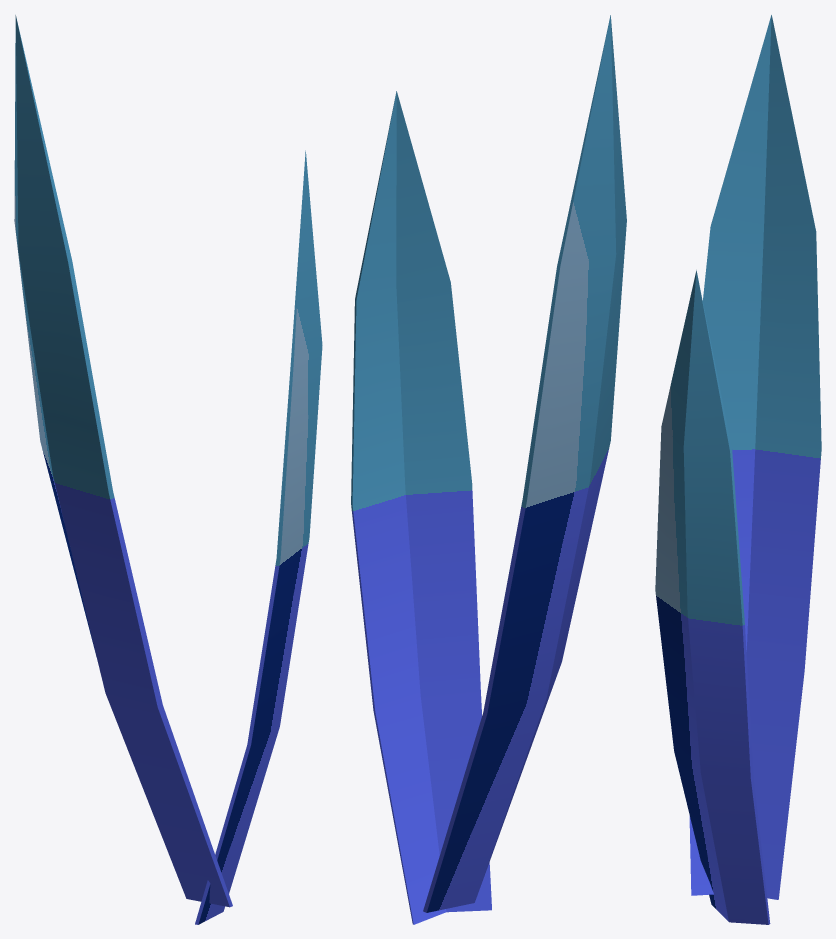
The model's file is mesh_forest_grass_01.fbx.
The picture shows the model from 3 angles, left to right: view 1: azimuth 30°, elevation 25°; view 2: azimuth 150°, elevation 25°; view 3: azimuth 270°, elevation 25°; orthographic projection. The views are drawn at different scales.
Parts seen in each view (by area): view 1: mesh_forest_grass_01; view 2: mesh_forest_grass_01; view 3: mesh_forest_grass_01.
Part boxes in pixels (x1=…): mesh_forest_grass_01: x1=14, y1=15, x2=322, y2=924; mesh_forest_grass_01: x1=351, y1=15, x2=626, y2=924; mesh_forest_grass_01: x1=655, y1=15, x2=821, y2=924.
Size of the model in its own units: 35.07 by 115 by 20.87.
